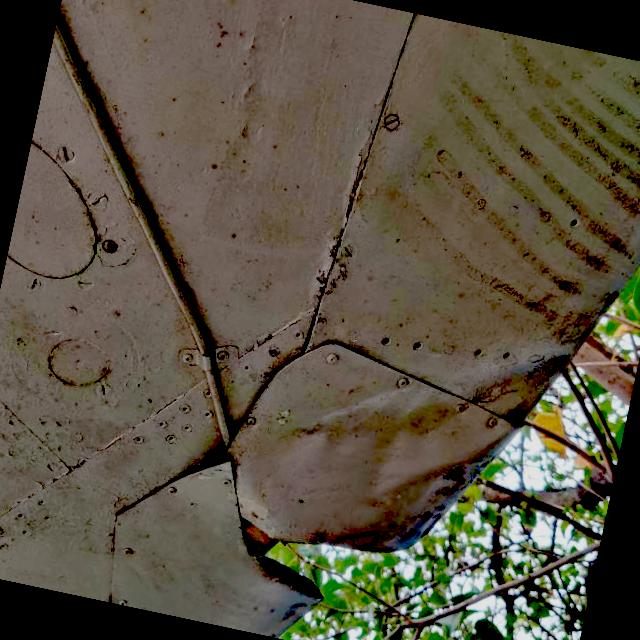dent: (242, 276, 587, 576)
